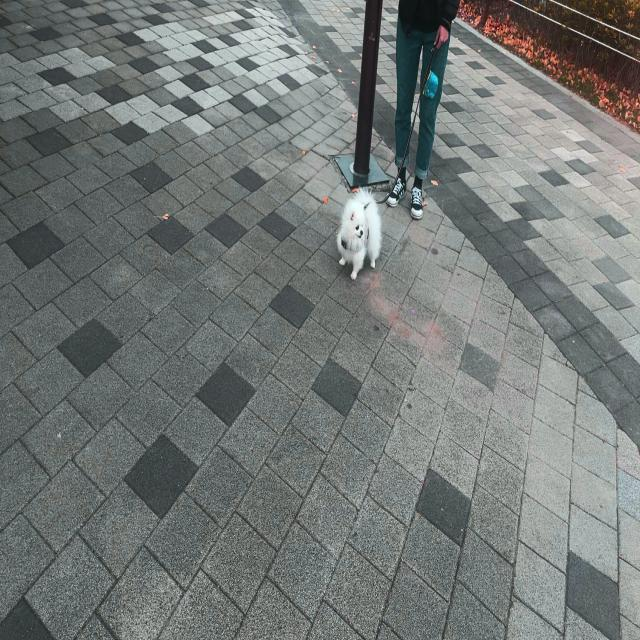Leashed_Dog: (338, 22, 450, 282)
